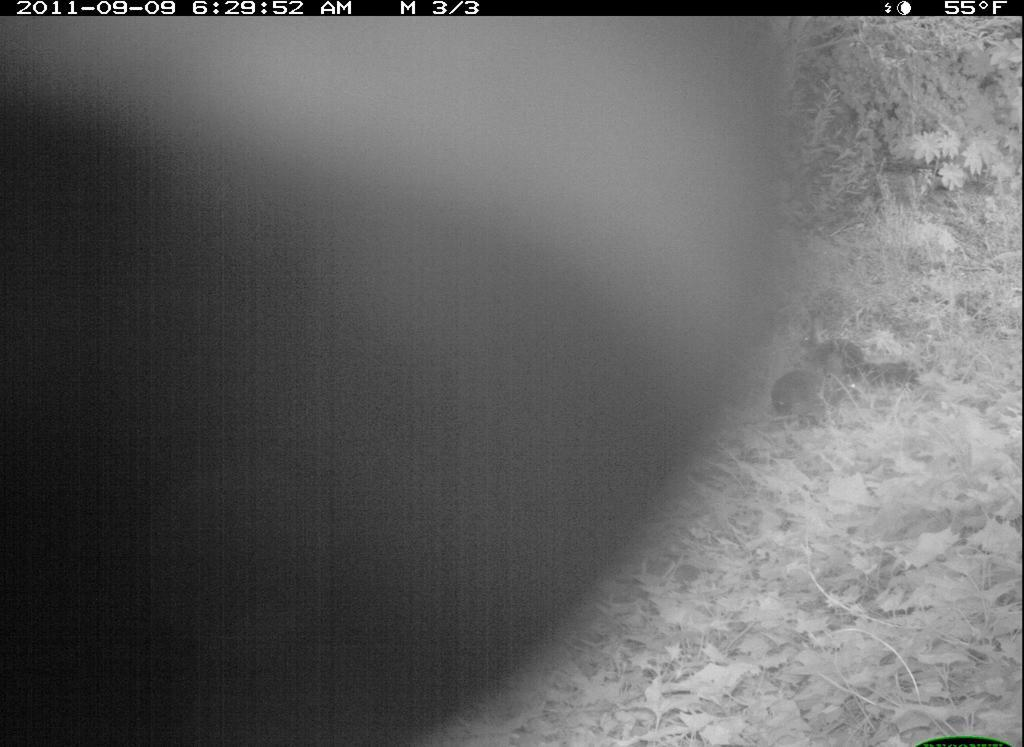rabbit: (767, 351, 851, 426), (796, 311, 872, 385)
